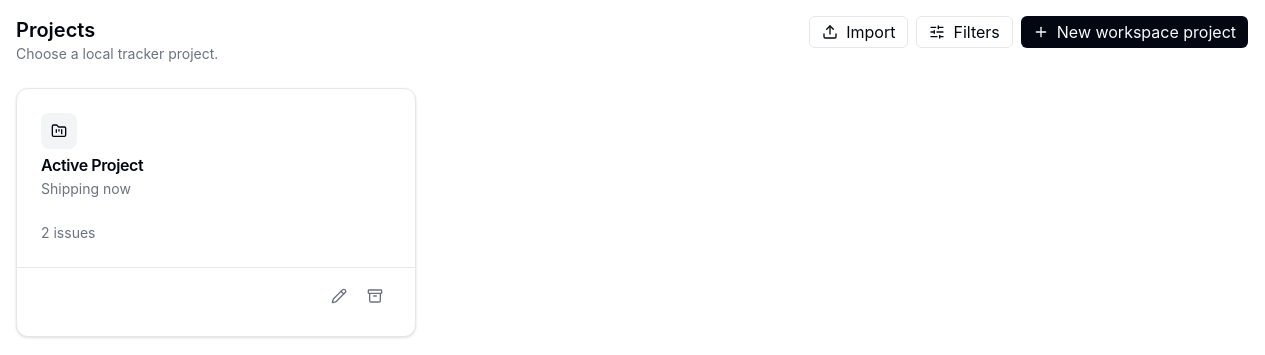
Test case: ProjectListPage › archives an active project and hides it when archived projects are hidden
expect the heading "Active Project" is shown: met, box [41,155,143,175]
What coordinates should you click on to do the following:
click the button named "Archive Active Project"
I would click on:
 (375, 296)
Its box is [359,280,391,312].
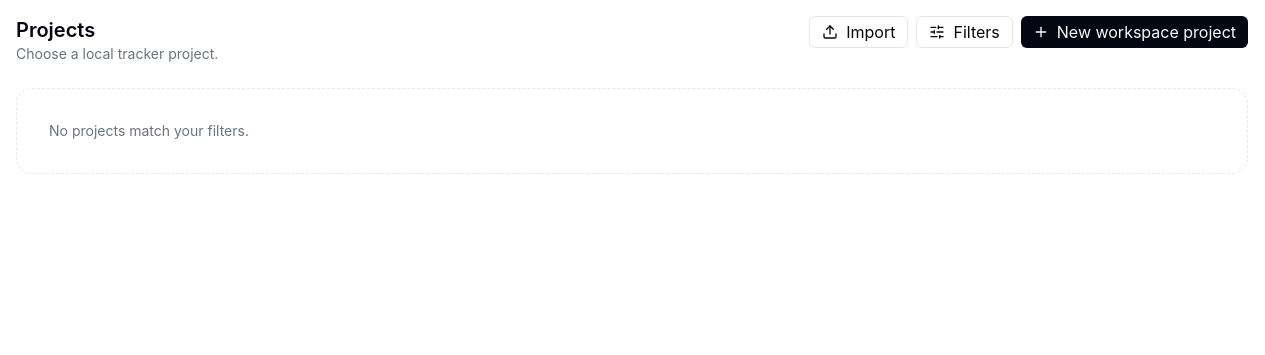
expect the link "Active Project" is gone: met
